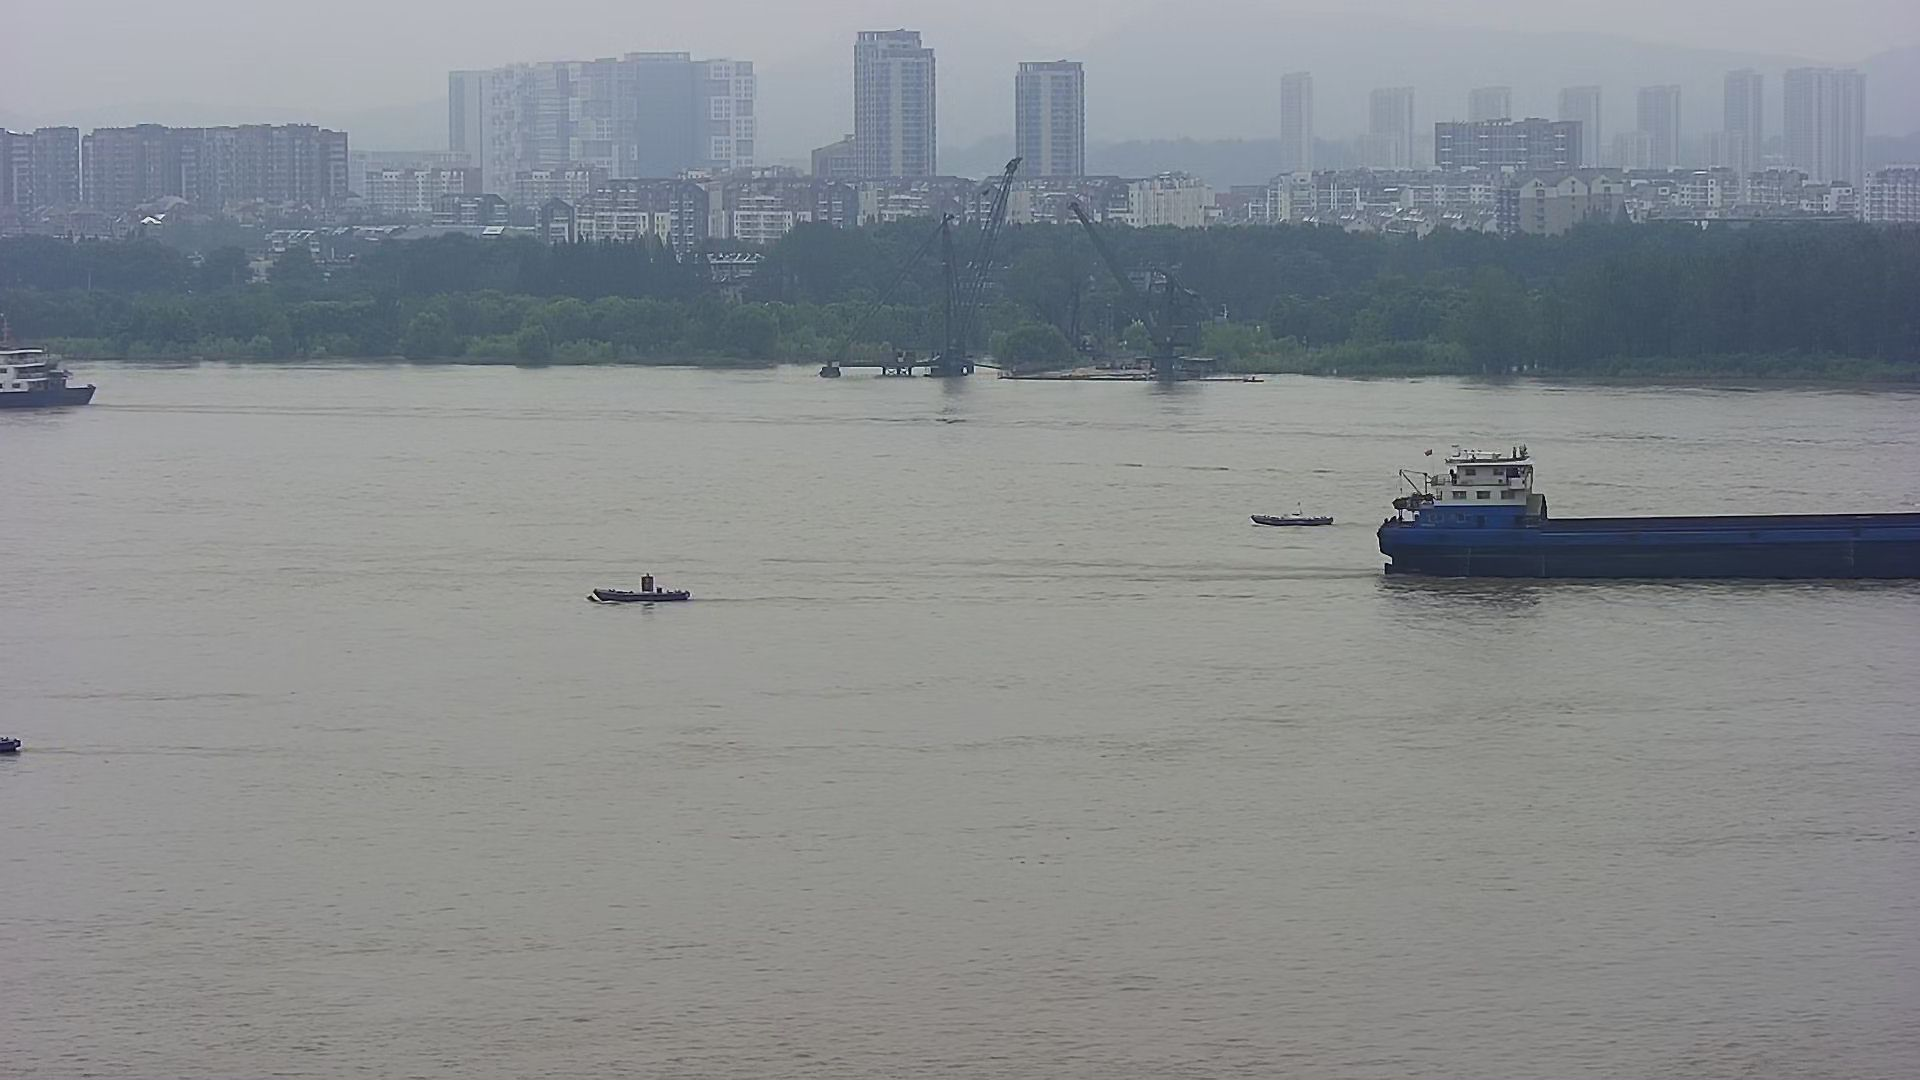boat: (587, 568, 695, 607), (1253, 502, 1333, 531), (1, 723, 22, 761)
harbor: (808, 349, 1271, 390)
ship: (1373, 440, 1920, 582), (1, 331, 96, 409)
